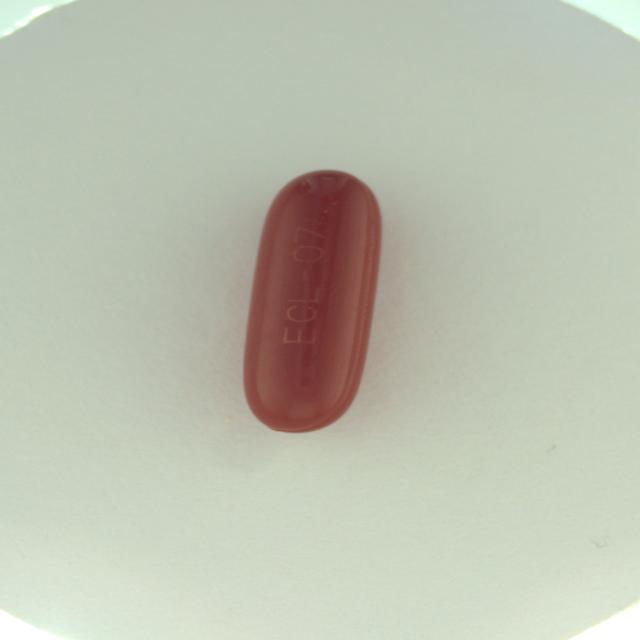Oval: (241, 166, 383, 438)
